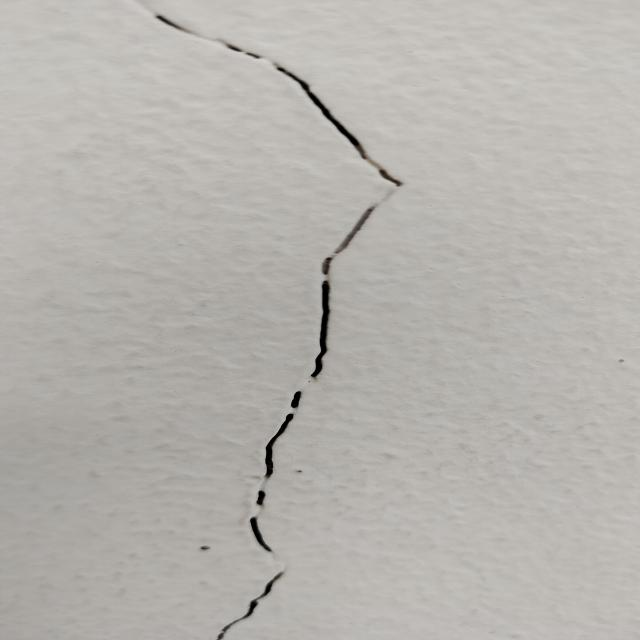Crack: (117, 5, 412, 640)
